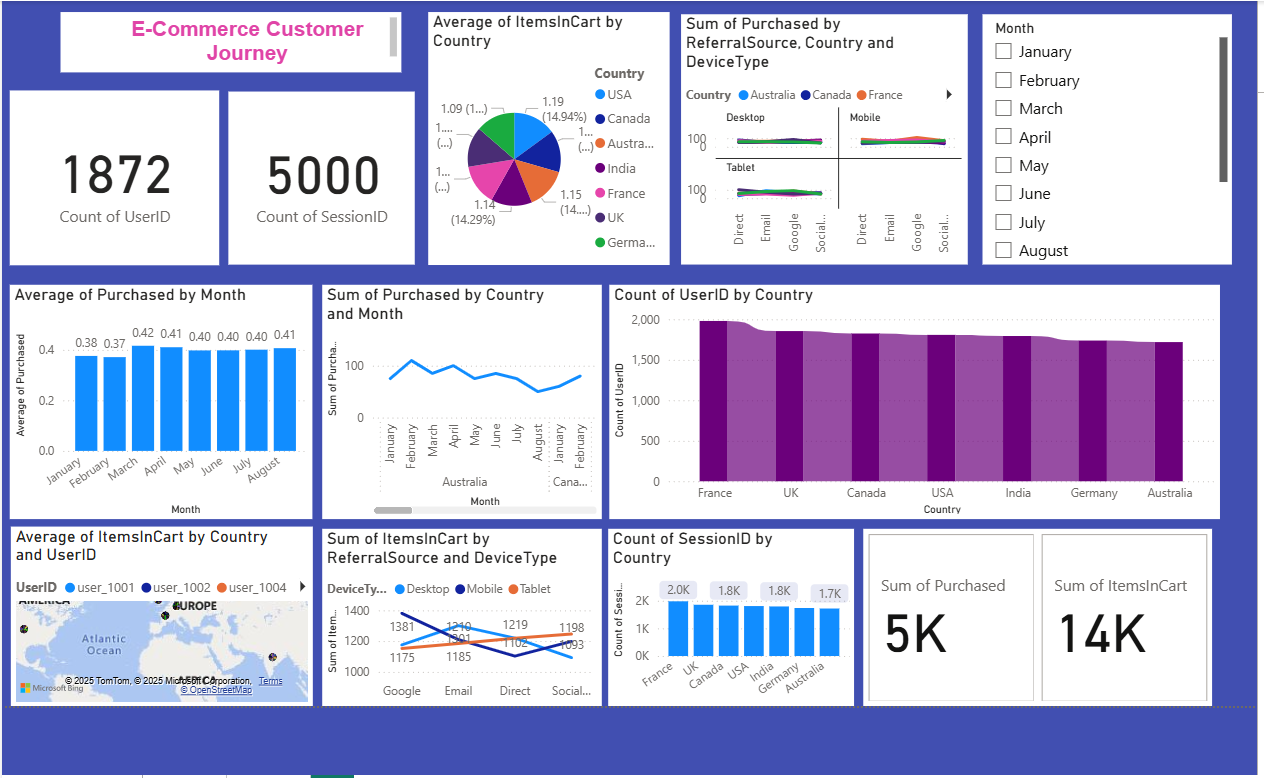

The page's visual inventory and layout, read from the dashboard file:
{"tool":"powerbi","page":{"name":"Page 1","canvas":[1280,720],"ordinal":0},"visuals":[{"type":"card","fields":{"Values":["Count(customer_journey.SessionID)"]},"box":[231,92.4,190.4,176.9],"z":1000},{"type":"textbox","box":[59.7,11.3,348.1,62],"z":2000},{"type":"clusteredColumnChart","fields":{"Category":["customer_journey.Country"],"Y":["CountNonNull(customer_journey.SessionID)"]},"box":[618.5,538.5,251.2,181.4],"z":3000},{"type":"pieChart","fields":{"Category":["customer_journey.Country"],"Y":["Avg(customer_journey.ItemsInCart)"]},"box":[434.9,11.3,246.7,258],"z":4000},{"type":"cardVisual","fields":{"Data":["Sum(customer_journey.Purchased)","Sum(customer_journey.ItemsInCart)"]},"box":[878.8,538.5,356,181.4],"z":6000},{"type":"columnChart","fields":{"Category":["customer_journey.Timestamp.Variation.Date Hierarchy.Month"],"Y":["Avg(customer_journey.Purchased)"]},"box":[7.9,289.5,308.7,238.8],"z":7000},{"type":"slicer","fields":{"Values":["customer_journey.Timestamp.Variation.Date Hierarchy.Month"]},"box":[1000.4,13.5,254.6,255.7],"z":8000},{"type":"card","fields":{"Values":["Count(customer_journey.UserID)"]},"box":[7.9,91.3,214.1,178],"z":9000},{"type":"lineChart","fields":{"Category":["customer_journey.Country","customer_journey.Timestamp.Variation.Date Hierarchy.Month"],"Y":["Sum(customer_journey.Purchased)"]},"box":[326.7,289.5,285,238.8],"z":10000},{"type":"lineChart","fields":{"Category":["customer_journey.ReferralSource"],"Series":["customer_journey.Country"],"Rows":["customer_journey.DeviceType"],"Y":["Sum(customer_journey.Purchased)"]},"box":[692.9,13.5,292.9,255.7],"z":11000},{"type":"lineChart","fields":{"Category":["customer_journey.ReferralSource"],"Y":["Sum(customer_journey.ItemsInCart)"],"Series":["customer_journey.DeviceType"]},"box":[326.7,538.5,285,181.4],"z":12000},{"type":"map","fields":{"Category":["customer_journey.Country"],"Size":["Avg(customer_journey.ItemsInCart)"],"Series":["customer_journey.UserID"]},"box":[9,536.3,307.6,183.6],"z":13000},{"type":"ribbonChart","fields":{"Category":["customer_journey.Country"],"Y":["CountNonNull(customer_journey.UserID)"]},"box":[619.6,289.5,623,238.8],"z":14000}]}

Visuals, with their boxes in screenshot pixels (x1, y1, x2, y2):
card - Count(customer_journey.SessionID): crop(225, 90, 410, 262)
textbox: crop(58, 11, 397, 71)
clusteredColumnChart - customer_journey.Country x CountNonNull(customer_journey.SessionID): crop(602, 524, 847, 701)
pieChart - customer_journey.Country x Avg(customer_journey.ItemsInCart): crop(424, 11, 664, 262)
cardVisual - Sum(customer_journey.Purchased) x Sum(customer_journey.ItemsInCart): crop(856, 524, 1203, 701)
columnChart - customer_journey.Timestamp.Variation.Date Hierarchy.Month x Avg(customer_journey.Purchased): crop(8, 282, 308, 514)
slicer - customer_journey.Timestamp.Variation.Date Hierarchy.Month: crop(974, 13, 1222, 262)
card - Count(customer_journey.UserID): crop(8, 89, 216, 262)
lineChart - customer_journey.Country x customer_journey.Timestamp.Variation.Date Hierarchy.Month: crop(318, 282, 596, 514)
lineChart - customer_journey.ReferralSource x customer_journey.Country: crop(675, 13, 960, 262)
lineChart - customer_journey.ReferralSource x Sum(customer_journey.ItemsInCart): crop(318, 524, 596, 701)
map - customer_journey.Country x Avg(customer_journey.ItemsInCart): crop(9, 522, 308, 701)
ribbonChart - customer_journey.Country x CountNonNull(customer_journey.UserID): crop(603, 282, 1210, 514)
